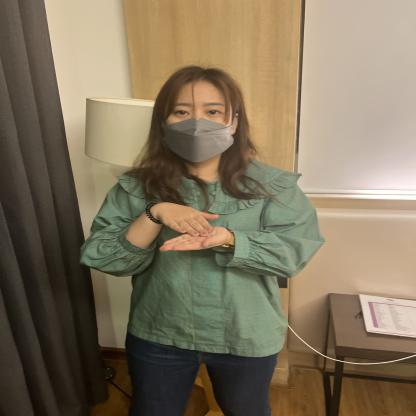Love: (85, 177, 295, 299)
